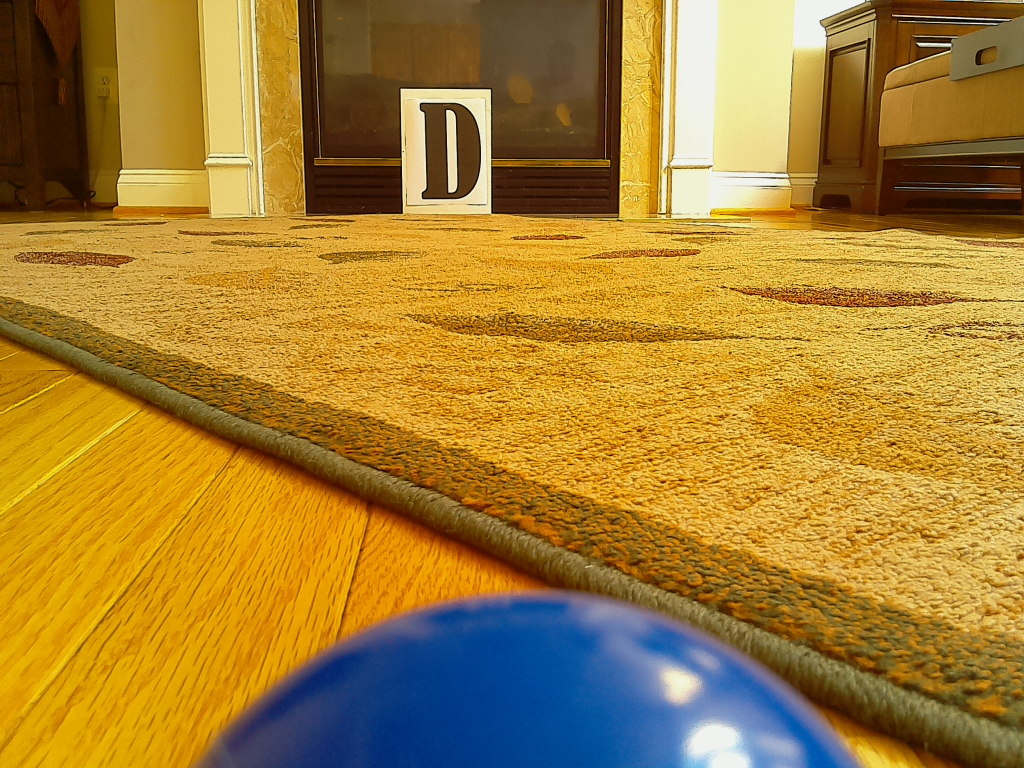letter: (422, 103, 481, 200)
